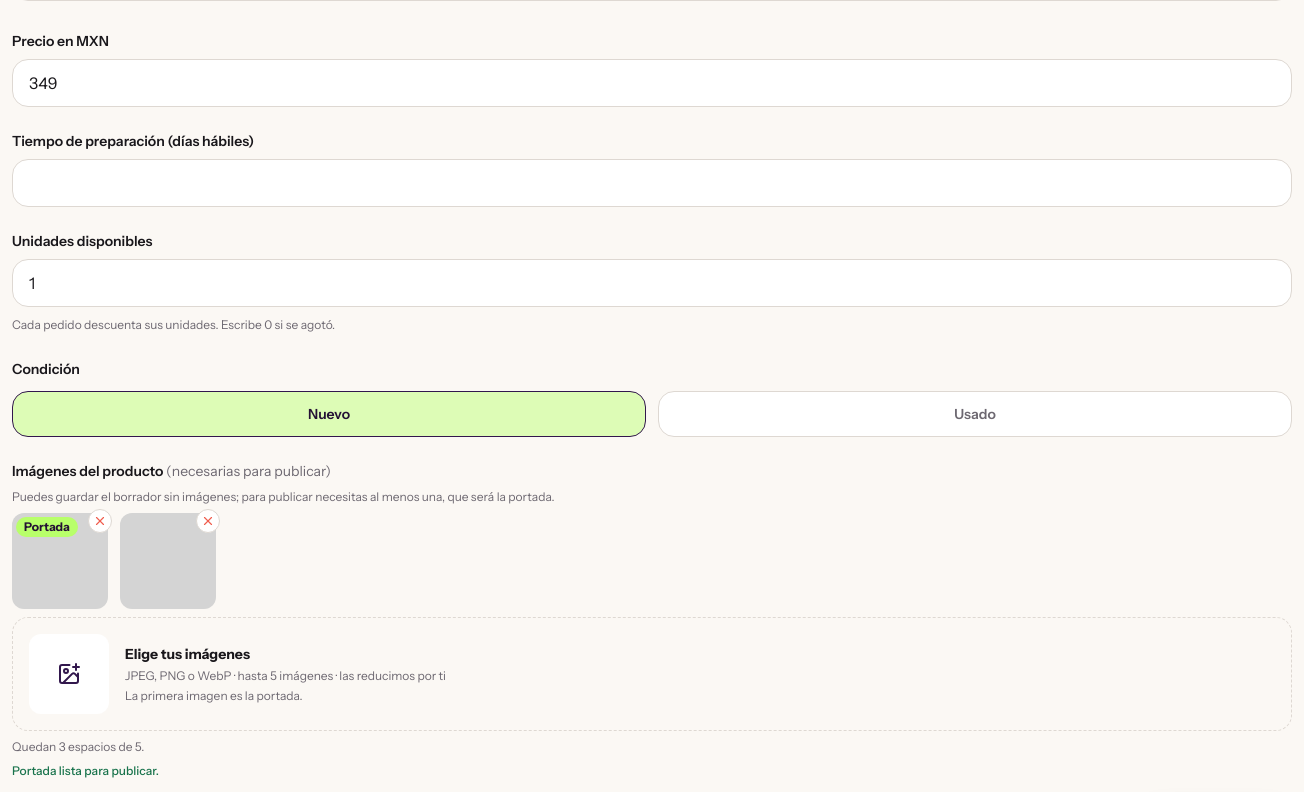
it: ProductForm image removal › says what went wrong when a removal fails
(page scrolled)
Step 1. Click the button named "Eliminar imagen 1" → click(100, 521), box [88,509,112,533]
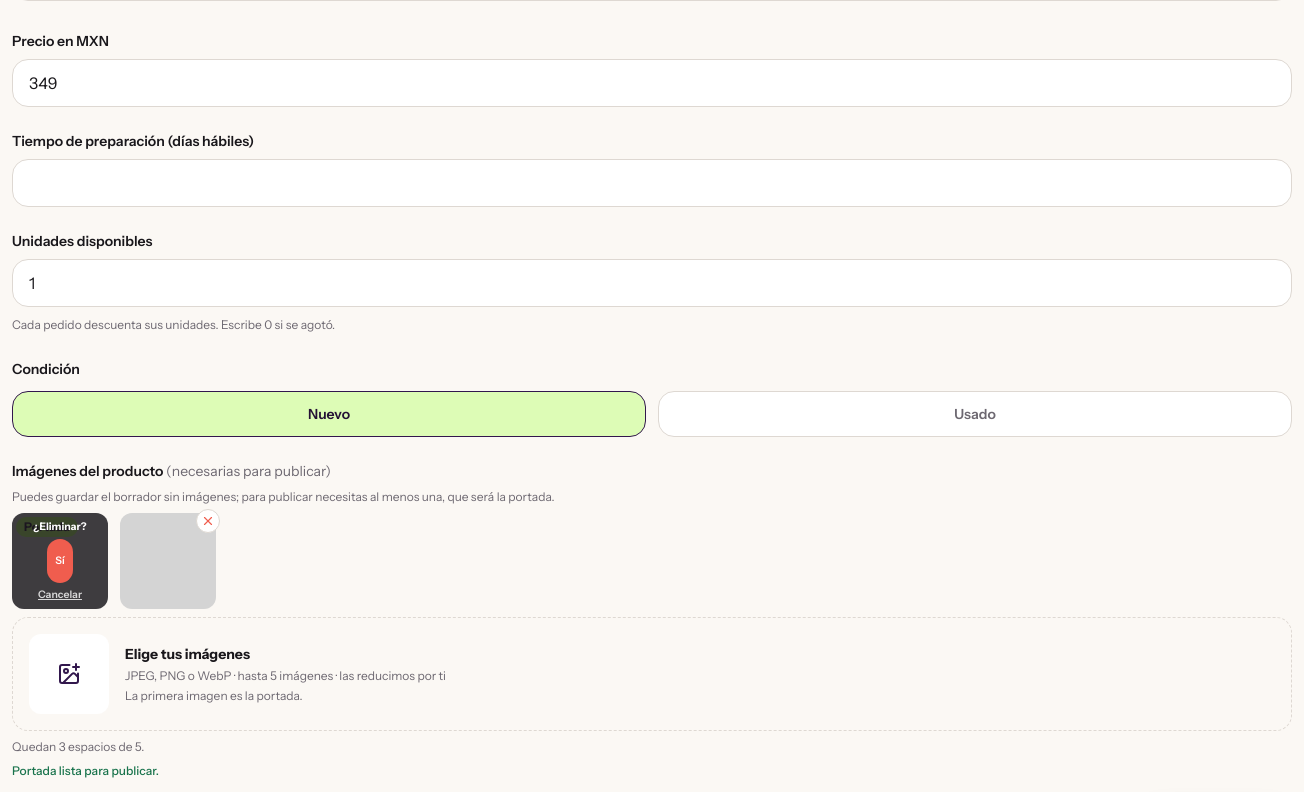
Step 2. Click the button with aria-label "Sí, eliminar imagen 1" → click(60, 561), box [47,539,73,583]
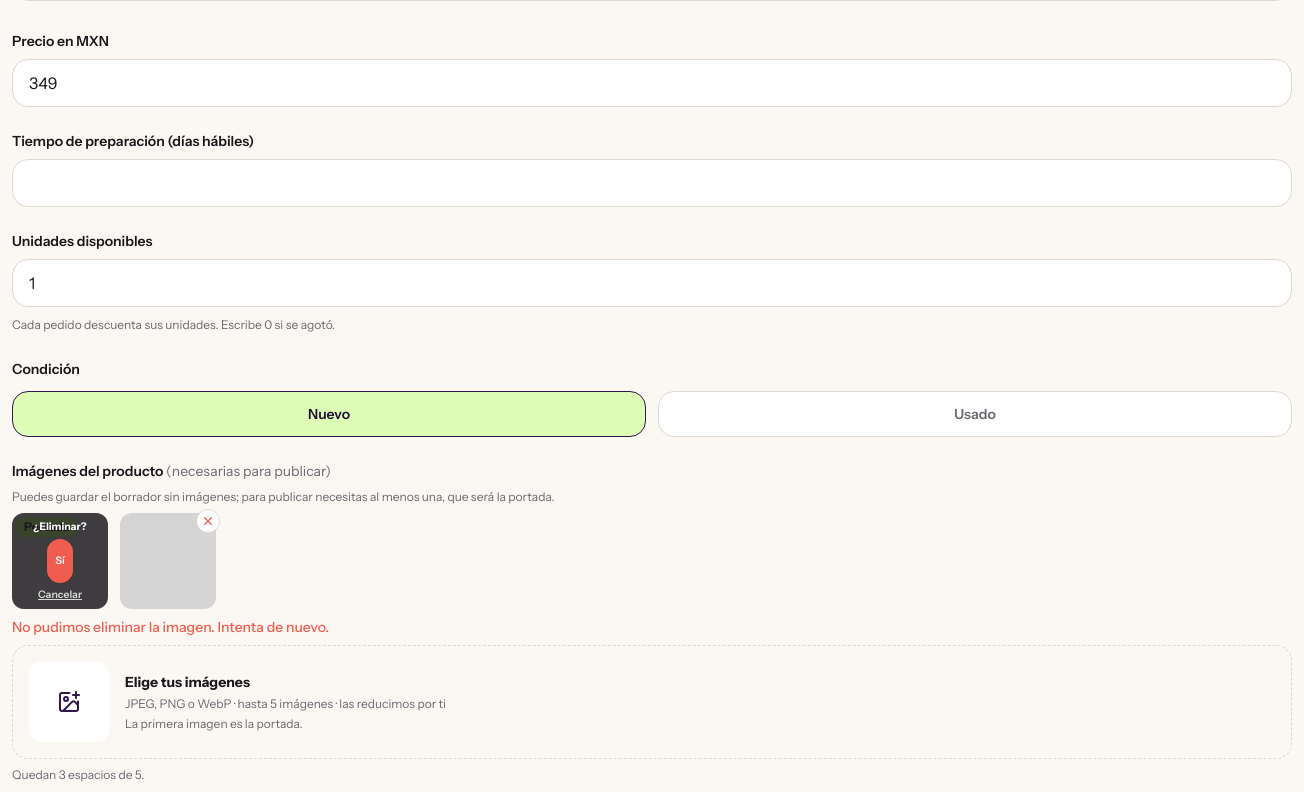
Now the text "No pudimos eliminar la imagen. Intenta de nuevo." is shown, box [12,618,329,636]
